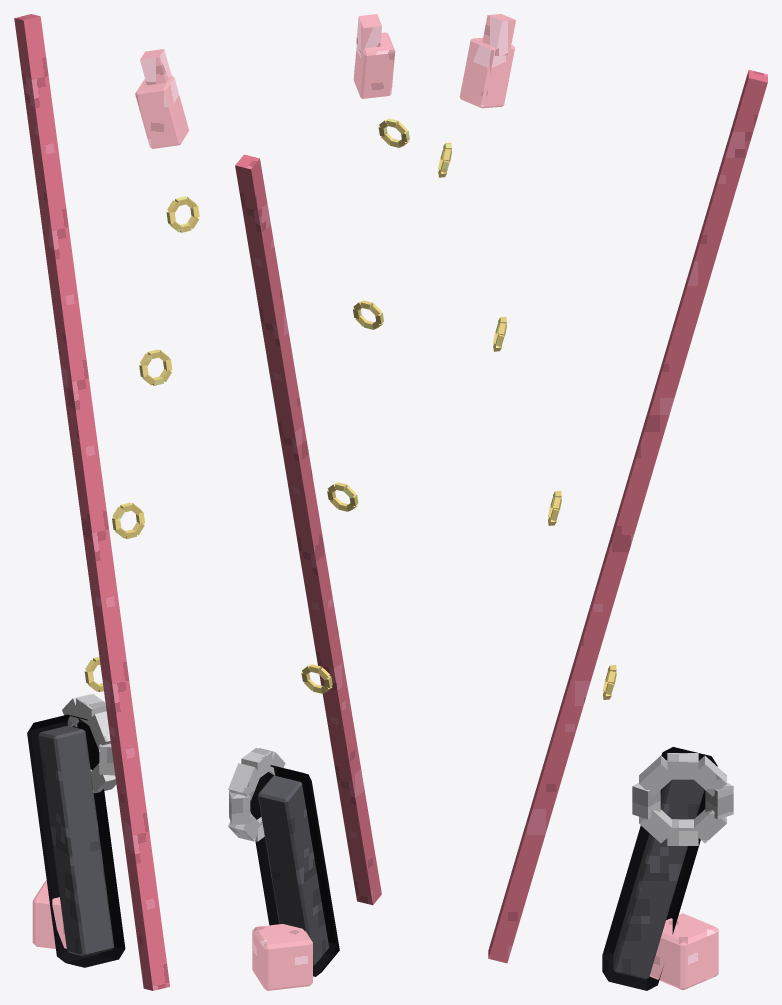
File: equip_rod_6.glb
The picture shows the model from 3 angles, left to right: view 1: azimuth 30°, elevation 25°; view 2: azimuth 150°, elevation 25°; view 3: azimuth 270°, elevation 25°; orthographic projection. The views are drawn at different scales.
Parts seen in each view (by area): view 1: model; view 2: model; view 3: model.
Part boxes in pixels (x1,y1,x2,y2): model: (14, 14, 199, 990); model: (228, 14, 409, 990); model: (438, 14, 767, 990).
Bounding box in the file's own units: 0.1792 × 2.33 × 0.721.
Materials: 6 (5 with a texture image).
